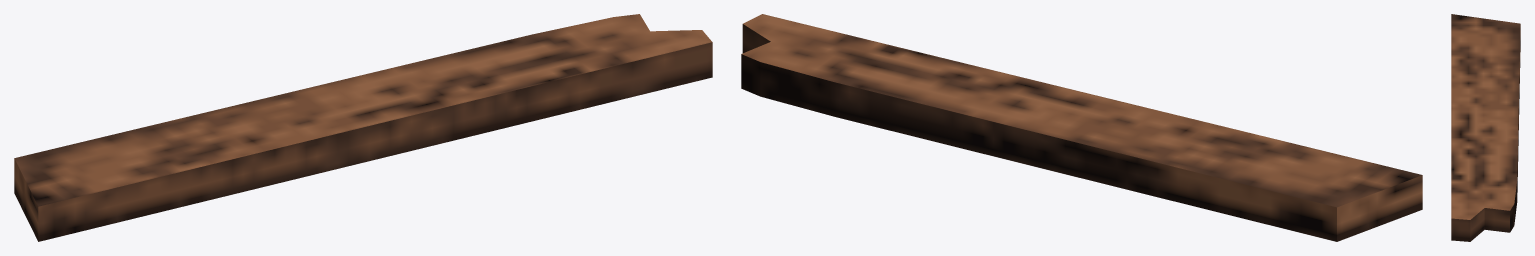
The model's file is MESH_DEBRI_Wood4.fbx.
3 renders of one model, left to right at view 1: azimuth 30°, elevation 25°; view 2: azimuth 150°, elevation 25°; view 3: azimuth 270°, elevation 25°, orthographic. The views are drawn at different scales.
Parts seen in each view (by area): view 1: MESH_DEBRI_Wood4; view 2: MESH_DEBRI_Wood4; view 3: MESH_DEBRI_Wood4.
Boxes of the visible parts, x1,y1,x2,y2 form: MESH_DEBRI_Wood4: (14, 14, 712, 241); MESH_DEBRI_Wood4: (741, 14, 1422, 241); MESH_DEBRI_Wood4: (1451, 14, 1520, 241).
Bounding box in the file's own units: 2.01 × 0.1004 × 0.2863.
